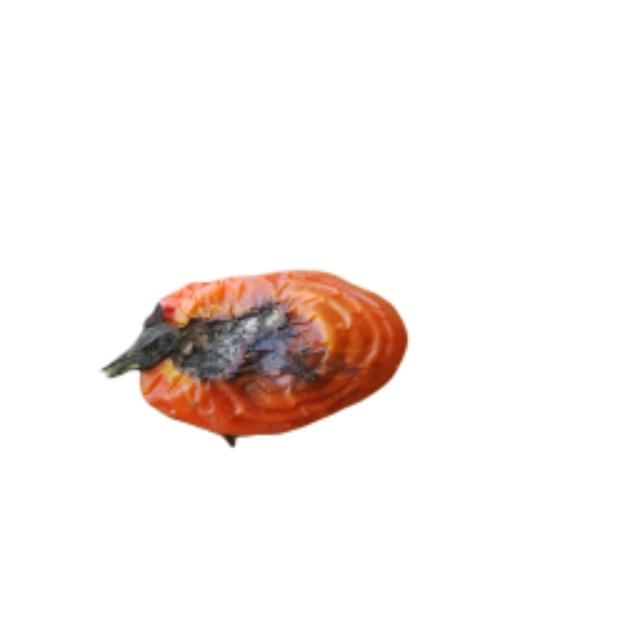defect: (117, 261, 413, 445)
